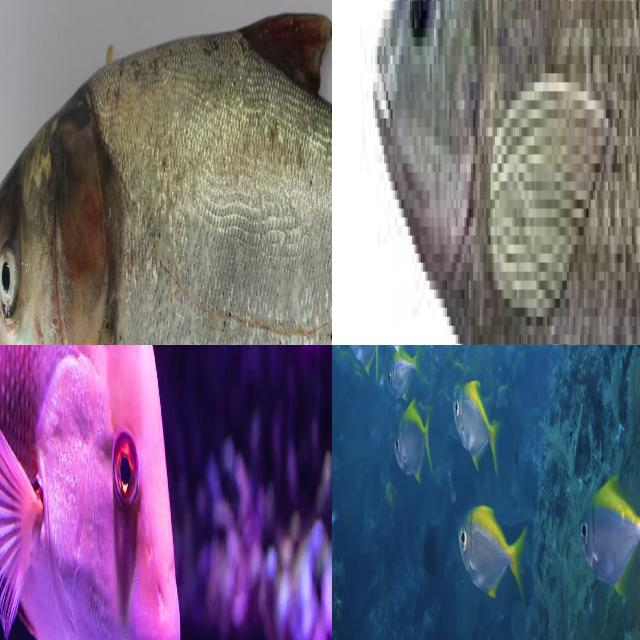fish: (0, 0, 332, 345), (427, 0, 640, 345), (53, 345, 332, 449)
